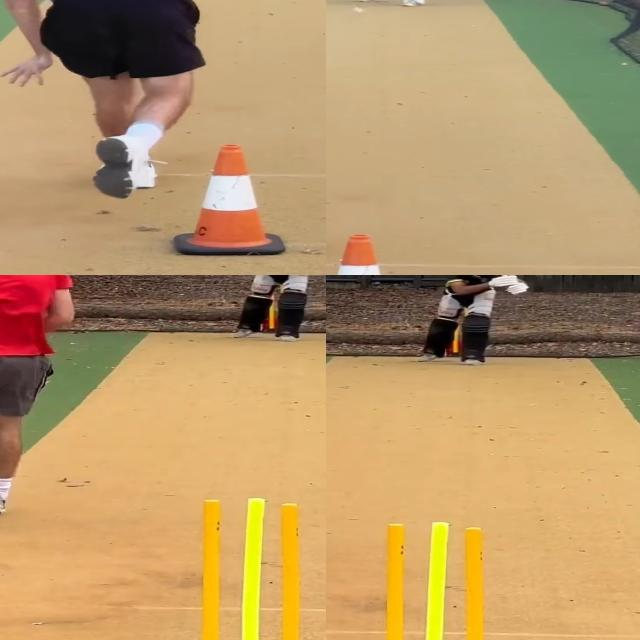Cricket ball: (366, 522, 498, 640), (351, 6, 369, 16)
Stumps: (182, 496, 322, 640)
